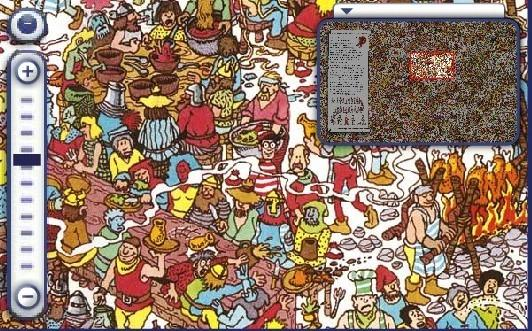waldo: (253, 124, 281, 192)
